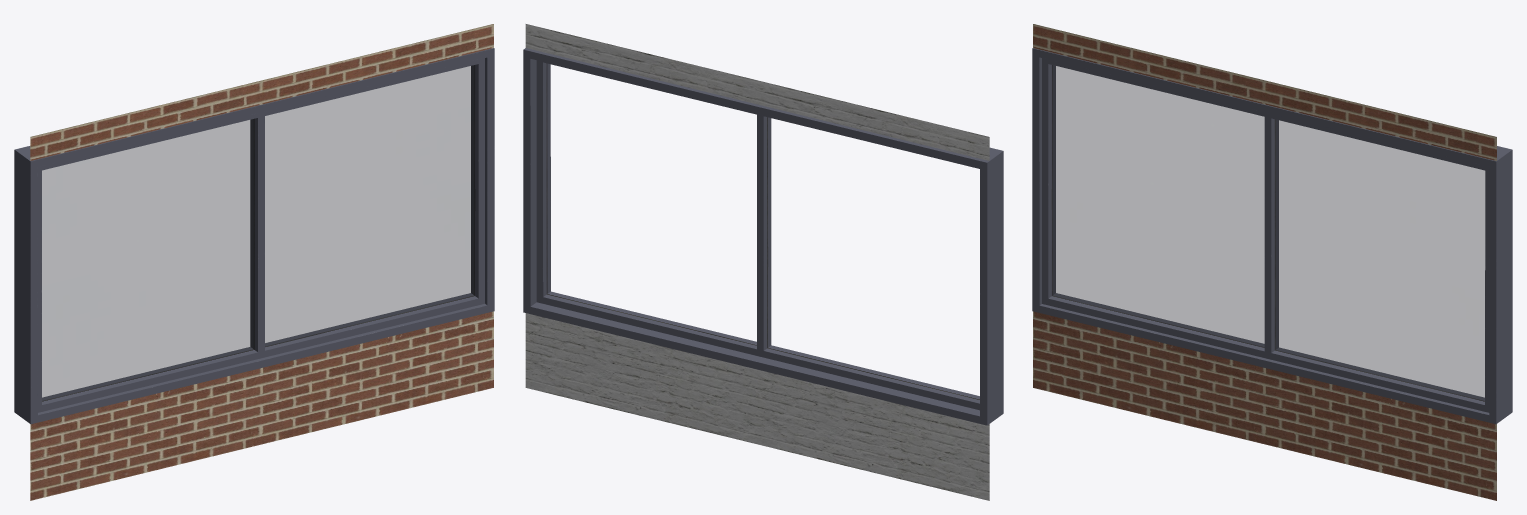
File: SM_Wall_Quart_Window_01.glb
3 views of the same model, side by side, from view 1: azimuth 30°, elevation 25°; view 2: azimuth 150°, elevation 25°; view 3: azimuth 330°, elevation 25° (orthographic).
Parts seen in each view (by area): view 1: SM_Wall_Quart_Window_01; view 2: SM_Wall_Quart_Window_01; view 3: SM_Wall_Quart_Window_01.
Boxes of the visible parts, left/top/right/bottom form: SM_Wall_Quart_Window_01: left=14, top=24, right=494, bottom=500; SM_Wall_Quart_Window_01: left=523, top=24, right=1003, bottom=500; SM_Wall_Quart_Window_01: left=1032, top=24, right=1512, bottom=500.
Size of the model in its own units: 4 by 3 by 0.2434.
Materials: 4 (4 with a texture image).
